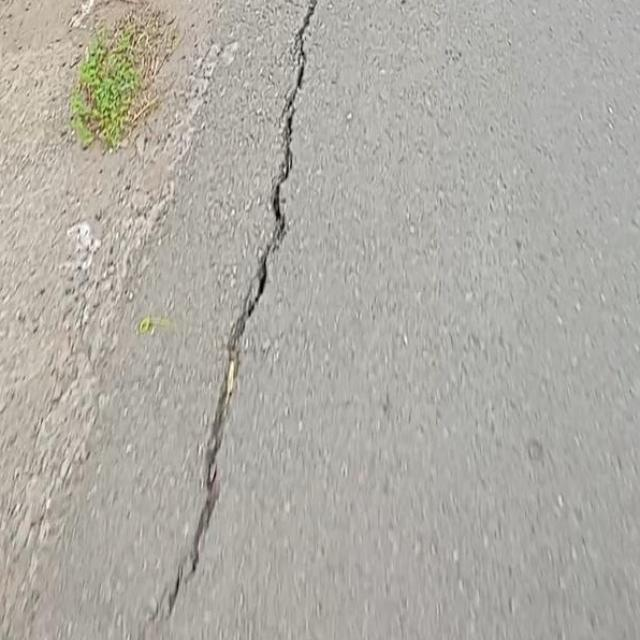Memanjang: (154, 5, 335, 630)
